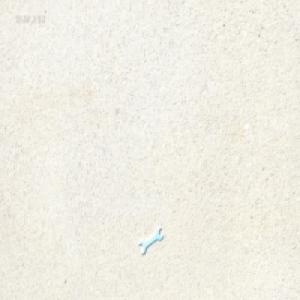Wrench: (139, 227, 163, 255)
